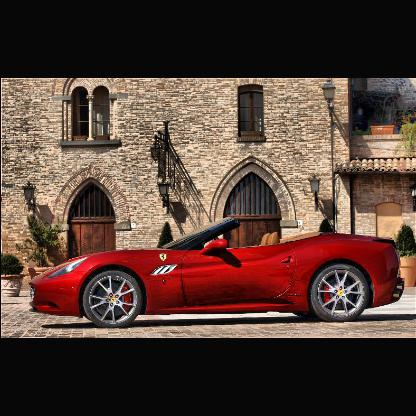Ferrari California Convertible 2012: (29, 218, 407, 329)
